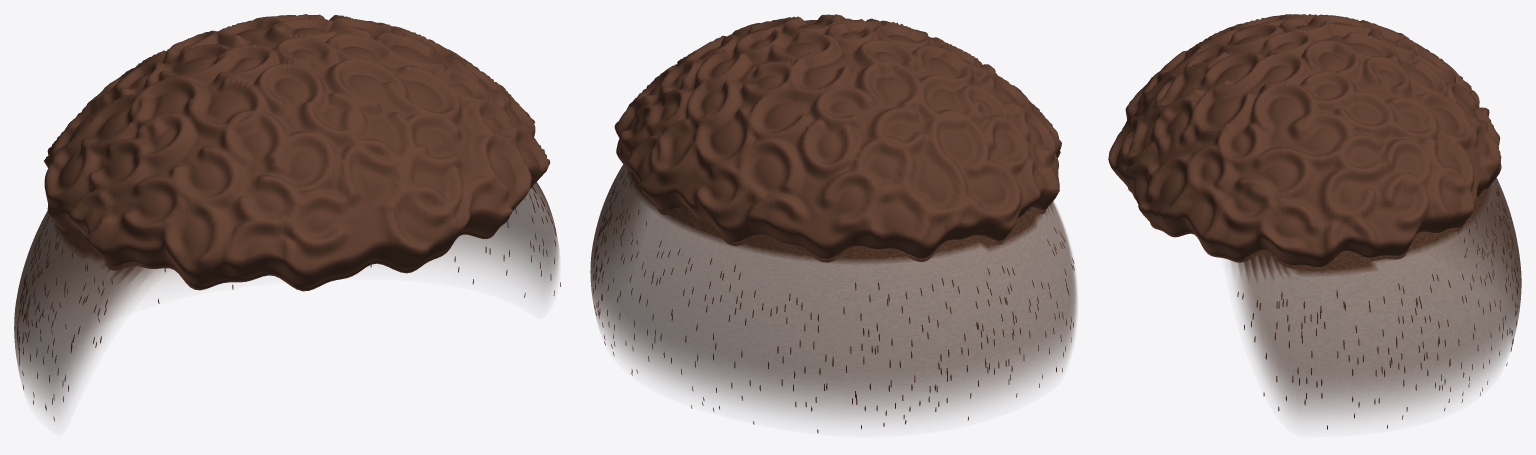
File: Masculine-curly-top-ears251-hair.glb
3 renders of one model, left to right at view 1: azimuth 30°, elevation 25°; view 2: azimuth 150°, elevation 25°; view 3: azimuth 270°, elevation 25°, orthographic. The views are drawn at different scales.
Parts seen in each view (by area): view 1: 226 hair / Hair / sculpted curly crown251.001, 226 hair / Hair / clipped grain251.001, 226 hair / Hair / close cut strokes251.001; view 2: 226 hair / Hair / clipped grain251.001, 226 hair / Hair / sculpted curly crown251.001, 226 hair / Hair / close cut strokes251.001; view 3: 226 hair / Hair / sculpted curly crown251.001, 226 hair / Hair / clipped grain251.001, 226 hair / Hair / close cut strokes251.001.
Part boxes in pixels (x1,y1,x2,y2): 226 hair / Hair / sculpted curly crown251.001: (44, 14, 550, 291); 226 hair / Hair / clipped grain251.001: (14, 182, 559, 416); 226 hair / Hair / close cut strokes251.001: (17, 186, 560, 421); 226 hair / Hair / clipped grain251.001: (590, 164, 1076, 421); 226 hair / Hair / sculpted curly crown251.001: (614, 14, 1061, 262); 226 hair / Hair / close cut strokes251.001: (593, 172, 1074, 432); 226 hair / Hair / sculpted curly crown251.001: (1108, 14, 1501, 267); 226 hair / Hair / clipped grain251.001: (1228, 178, 1521, 421); 226 hair / Hair / close cut strokes251.001: (1237, 188, 1518, 429).
Size of the model in its own units: 0.9812 by 0.6609 by 0.8042.
3 materials, 1 textured.
